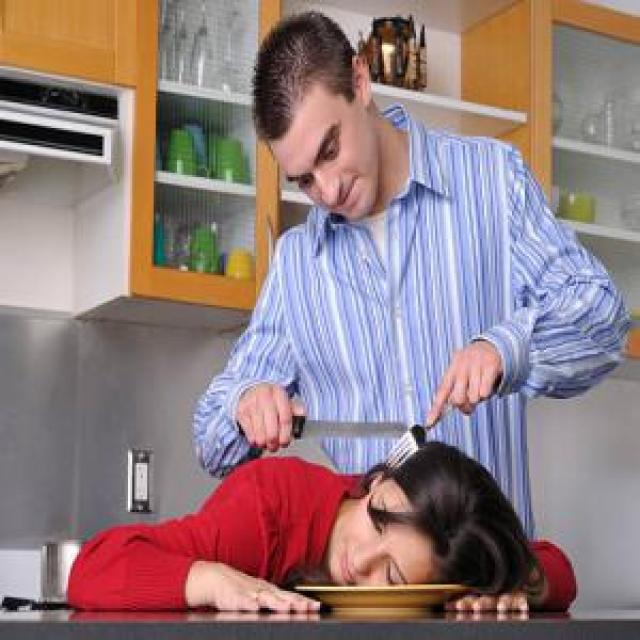knife: (260, 386, 411, 441)
